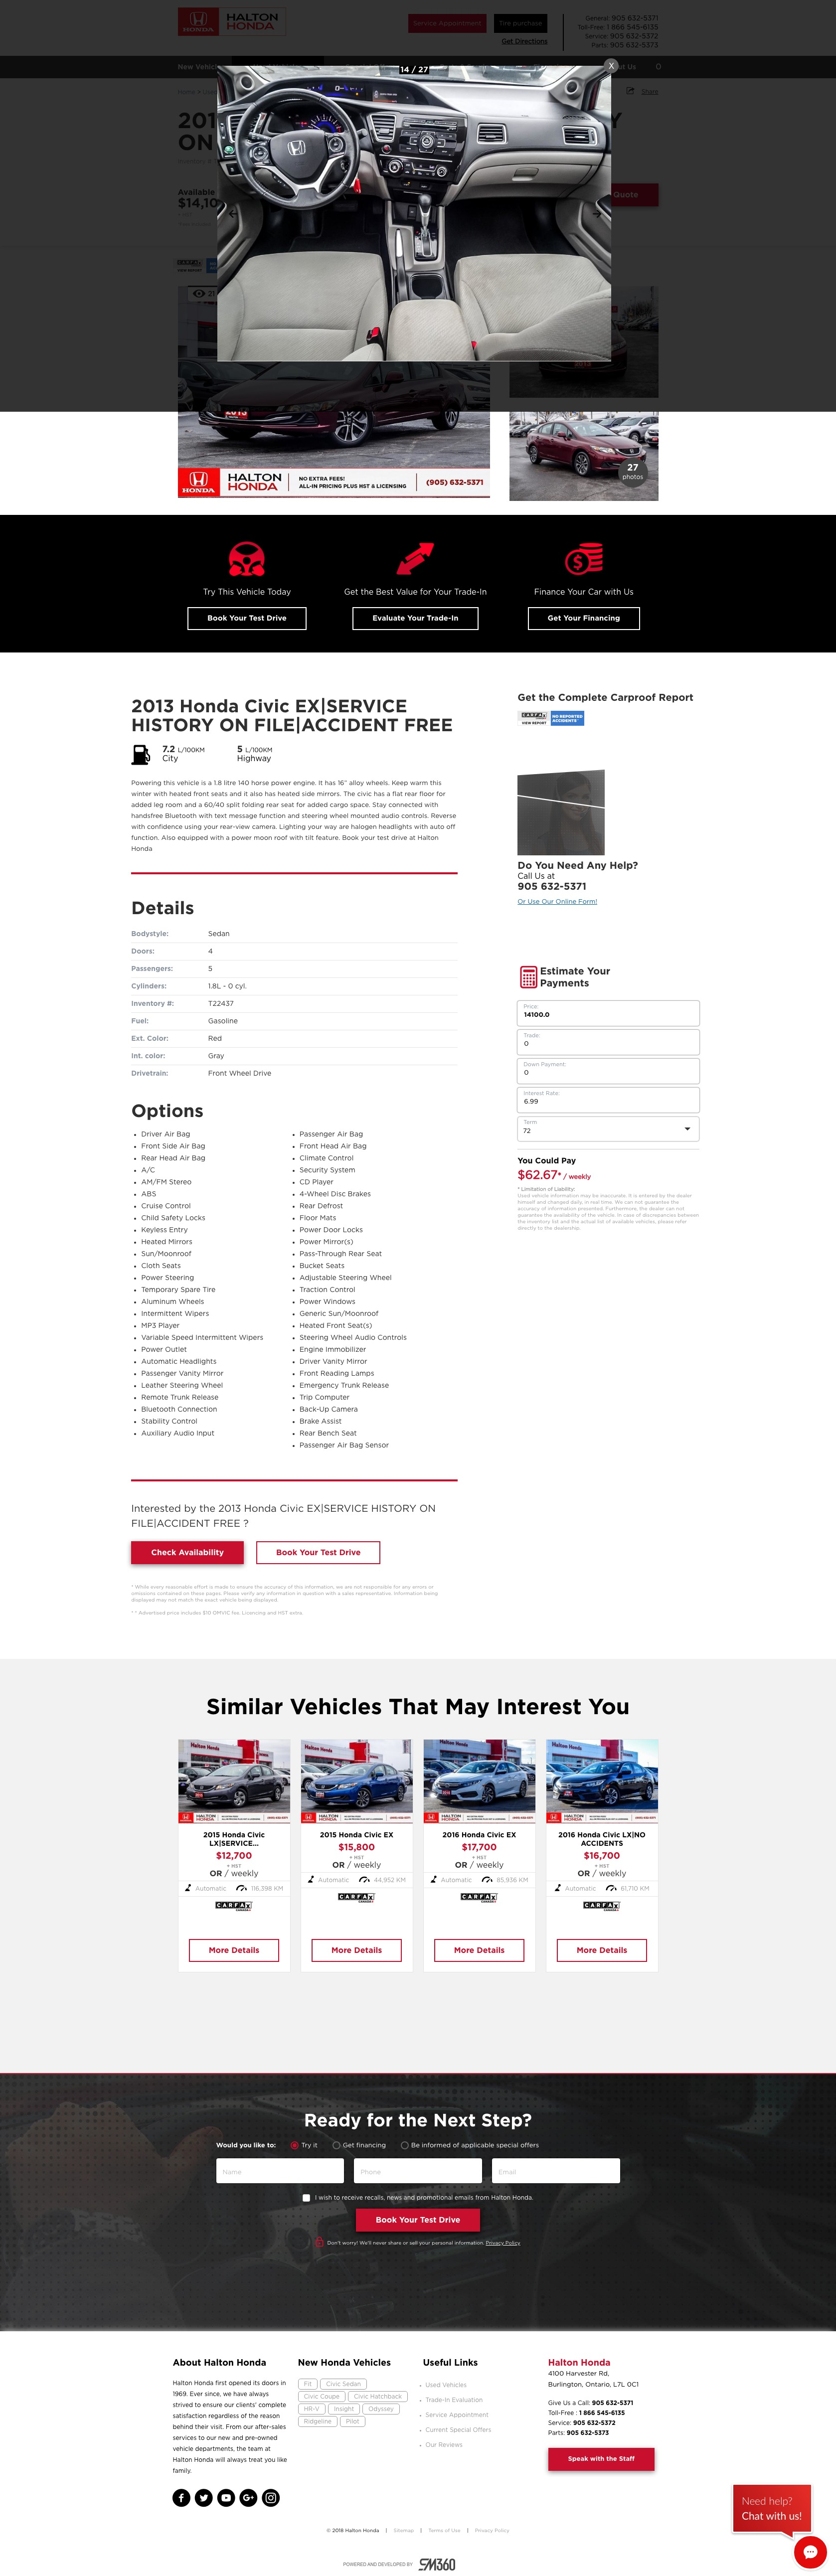car: (618, 458, 649, 488)
